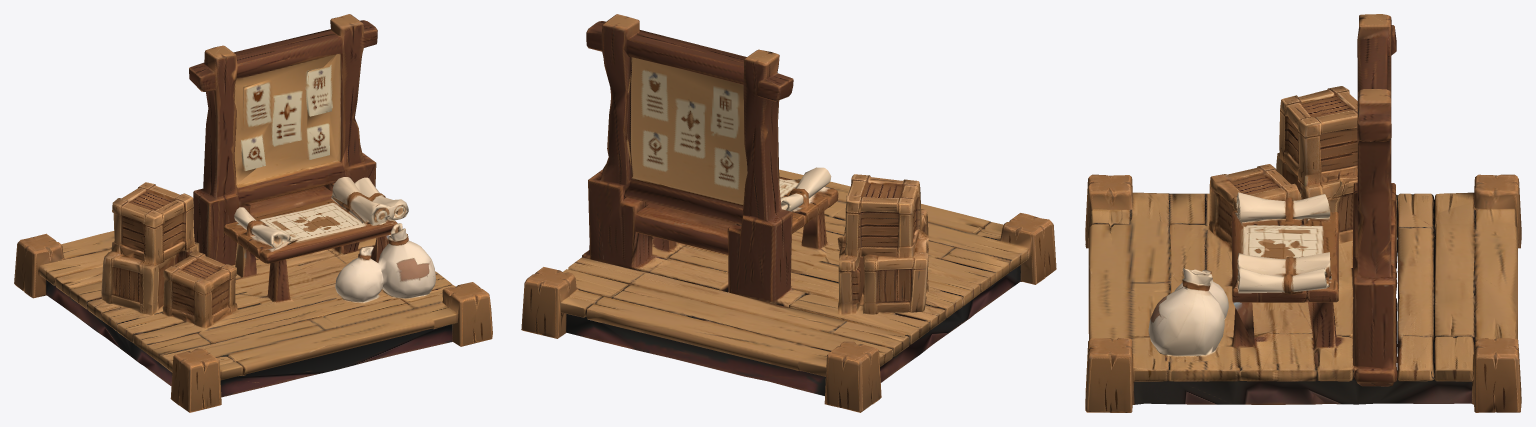
File: craft_booth.glb
The picture shows the model from 3 angles, left to right: view 1: azimuth 30°, elevation 25°; view 2: azimuth 150°, elevation 25°; view 3: azimuth 270°, elevation 25°; orthographic projection. The views are drawn at different scales.
Visible parts, largest first — view 1: Mesh_0; view 2: Mesh_0; view 3: Mesh_0.
Boxes of the visible parts, x1,y1,x2,y2 form: Mesh_0: (14,14,492,412); Mesh_0: (521,14,1056,412); Mesh_0: (1085,14,1521,412).
Size of the model in its own units: 1.9 by 1.44 by 1.89.
Materials: 1 (1 with a texture image).
